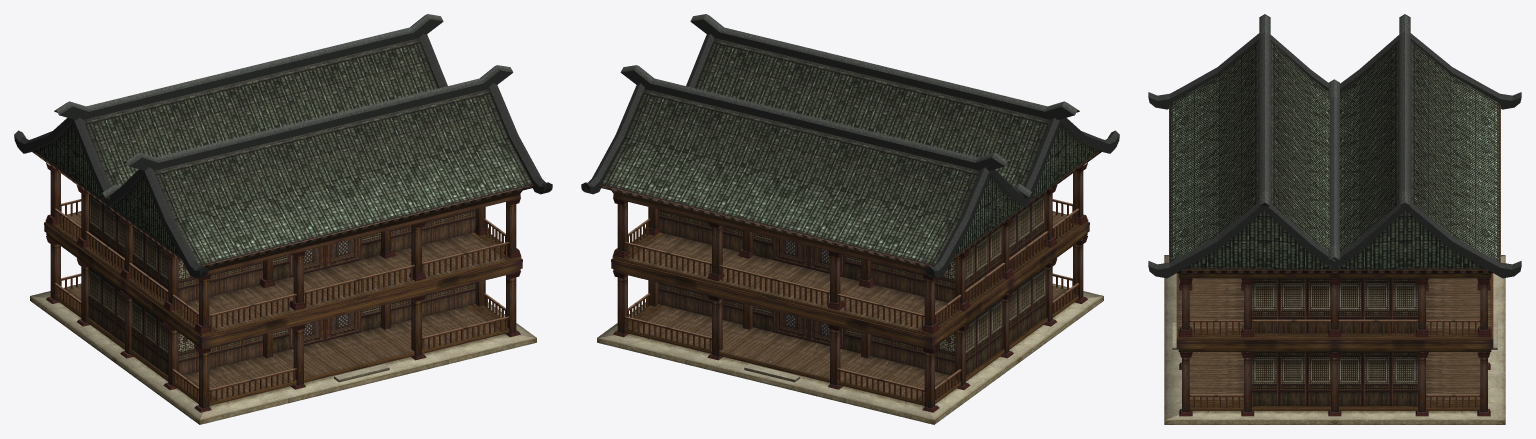
The model's file is c1-033-guesthouse-01.fbx.
3 views of the same model, side by side, from view 1: azimuth 30°, elevation 25°; view 2: azimuth 150°, elevation 25°; view 3: azimuth 270°, elevation 25° (orthographic).
Visible parts, largest first — view 1: 033-01; view 2: 033-01; view 3: 033-01.
Part boxes in pixels (x1,y1,x2,y2): 033-01: [14, 14, 552, 424]; 033-01: [581, 14, 1119, 424]; 033-01: [1148, 14, 1521, 424].
Size of the model in its own units: 21.33 by 12.64 by 17.86.
